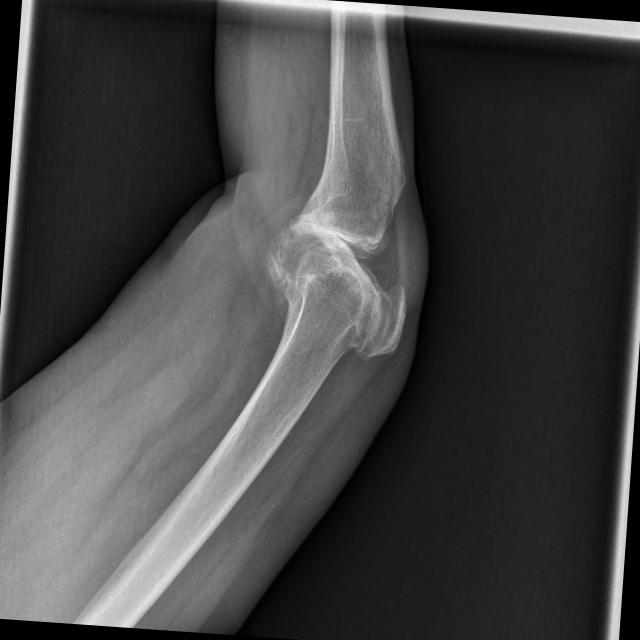Knee: (250, 170, 415, 362)
